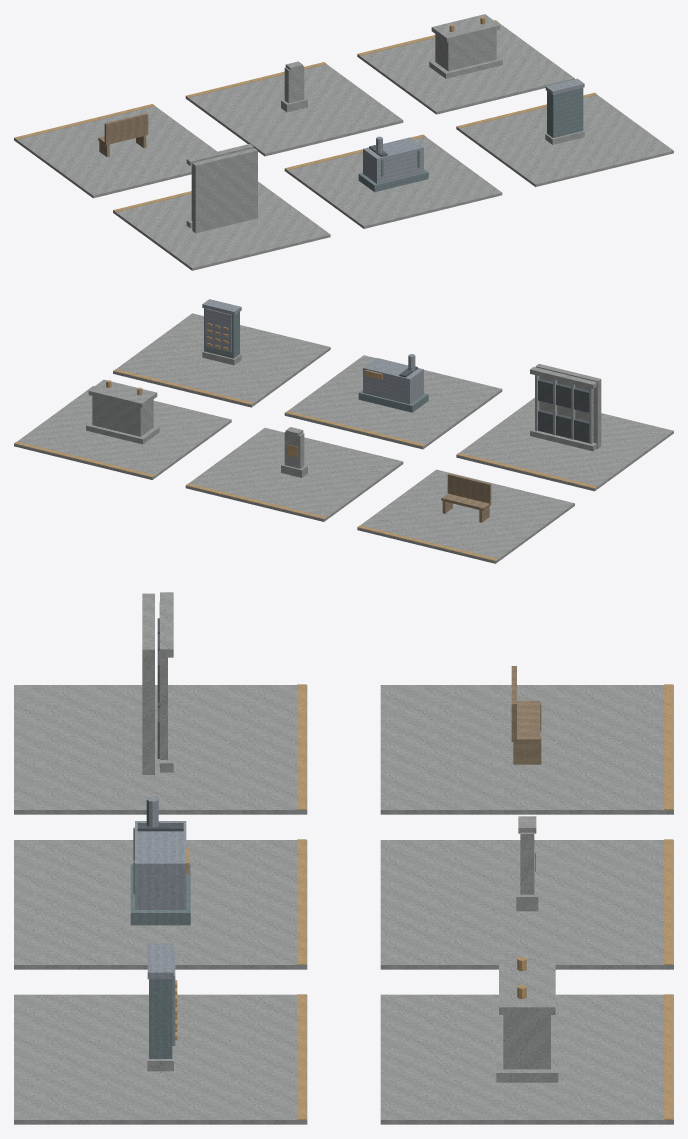
Rendered from level_blockout_kit_wld_07_p01.glb.
The picture shows the model from 3 angles, top to bottom: view 1: azimuth 30°, elevation 25°; view 2: azimuth 150°, elevation 25°; view 3: azimuth 270°, elevation 25°; orthographic projection. The views are drawn at different scales.
Visible parts, largest first — view 1: level_blockout_kit_wld_07_p01; view 2: level_blockout_kit_wld_07_p01; view 3: level_blockout_kit_wld_07_p01.
Part boxes in pixels (x1,y1,x2,y2): level_blockout_kit_wld_07_p01: (14, 14, 673, 270); level_blockout_kit_wld_07_p01: (14, 299, 673, 563); level_blockout_kit_wld_07_p01: (14, 592, 673, 1124).
Size of the model in its own units: 19.65 by 2.76 by 12.6.
Materials: 6 (6 with a texture image).
